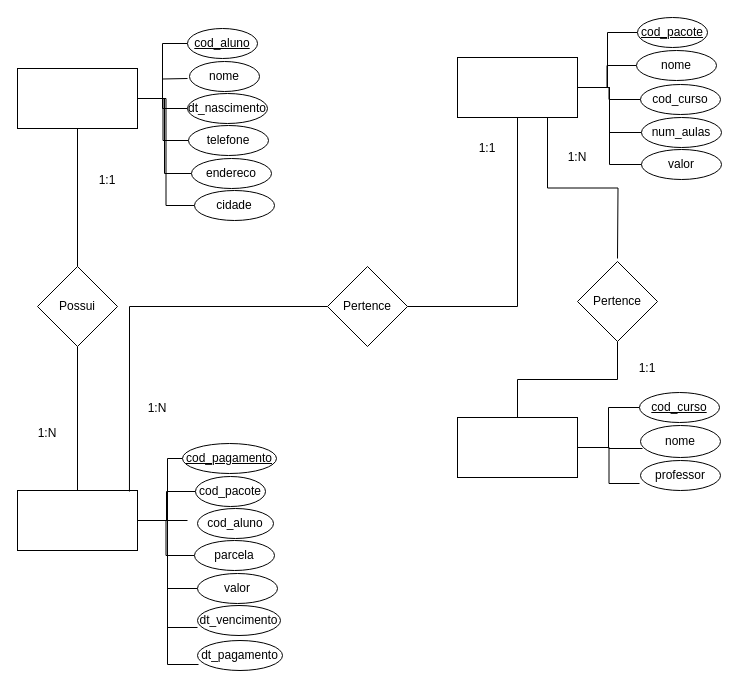
Some shapes in this 739 by 688 pixel diagram are drawn without their labels. The centre of each missing label's shape, as x and y in pixels:
Aluno: point 77,98
Curso: point 517,447
Pacote: point 517,87
Pagamento: point 77,520
